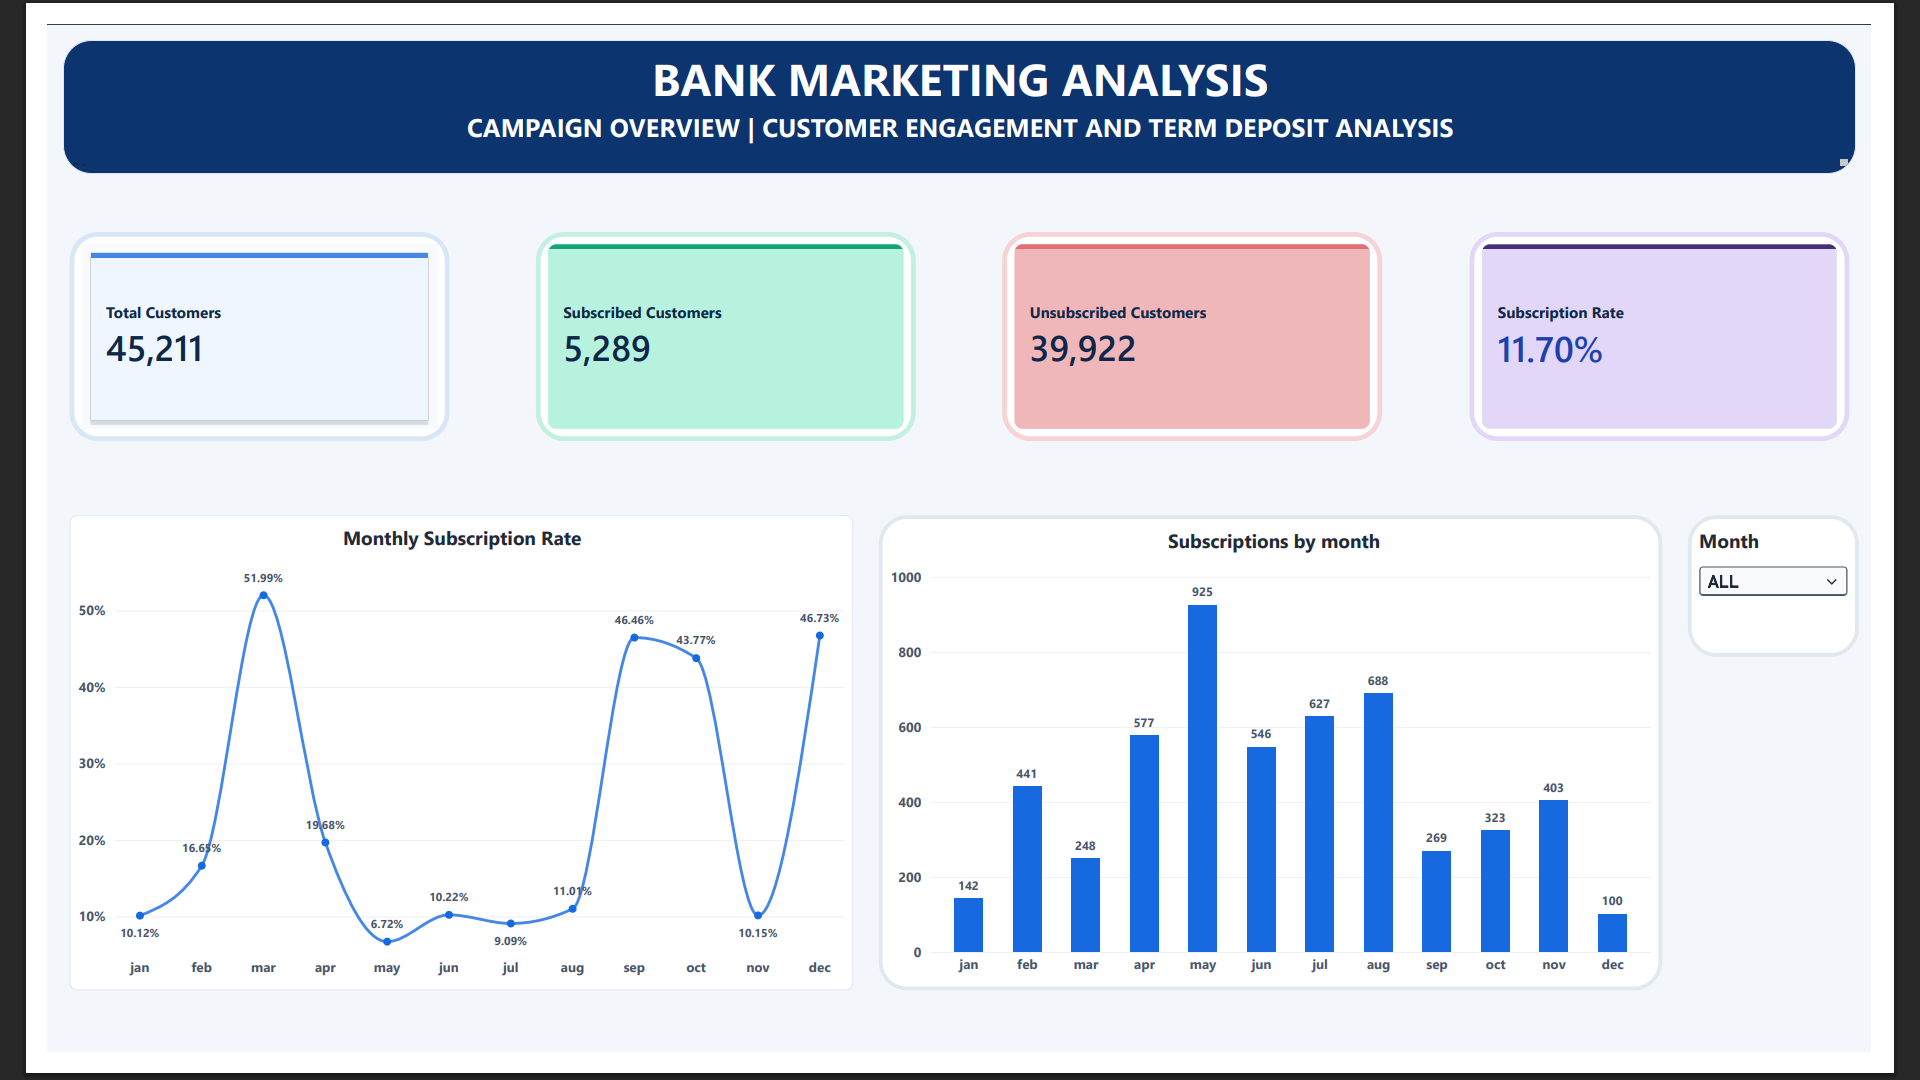

This screenshot's page, from the dashboard's own definition file:
{"tool":"powerbi","page":{"name":"Campaign Overview","canvas":[1920,1080],"ordinal":0},"visuals":[{"type":"cardVisual","fields":{"Data":["bank_campaign.Subscription Rate"]},"box":[1496.5,218,400,220],"z":0},{"type":"cardVisual","fields":{"Data":["bank_campaign.Subscribed Customers"]},"box":[514,218,400,220],"z":1000},{"type":"cardVisual","fields":{"Data":["bank_campaign.Total Customers"]},"box":[22.7,218,400,220],"z":2000},{"type":"cardVisual","fields":{"Data":["bank_campaign.Unsubscribed Customers"]},"box":[1005.2,218,400,220],"z":3000},{"type":"listSlicer","title":"Month","fields":{"Values":["bank_campaign.month"]},"box":[1727,516.1,180.3,149.2],"z":4000},{"type":"lineChart","title":"Monthly Subscription Rate","fields":{"Category":["bank_campaign.month"],"Y":["bank_campaign.Subscription Rate"]},"box":[22.7,516.3,825,500],"z":5000},{"type":"clusteredColumnChart","title":"Subscriptions by month","fields":{"Category":["bank_campaign.month"],"Y":["bank_campaign.Monthly Subscriptions"]},"box":[874.7,516.3,825,500],"z":6000},{"type":"textbox","title":"BANK MARKETING ANALYSIS","box":[16.4,15.7,1887.2,141.3],"z":7000}]}

Visuals, with their boxes in screenshot pixels (x1, y1, x2, y2), scaled from the page's 1920x1080 canvas onto the 1920x1080 screenshot:
cardVisual - bank_campaign.Subscription Rate: left=1496, top=218, right=1896, bottom=438
cardVisual - bank_campaign.Subscribed Customers: left=514, top=218, right=914, bottom=438
cardVisual - bank_campaign.Total Customers: left=23, top=218, right=423, bottom=438
cardVisual - bank_campaign.Unsubscribed Customers: left=1005, top=218, right=1405, bottom=438
"Month" listSlicer: left=1727, top=516, right=1907, bottom=665
"Monthly Subscription Rate" lineChart: left=23, top=516, right=848, bottom=1016
"Subscriptions by month" clusteredColumnChart: left=875, top=516, right=1700, bottom=1016
"BANK MARKETING ANALYSIS" textbox: left=16, top=16, right=1904, bottom=157
